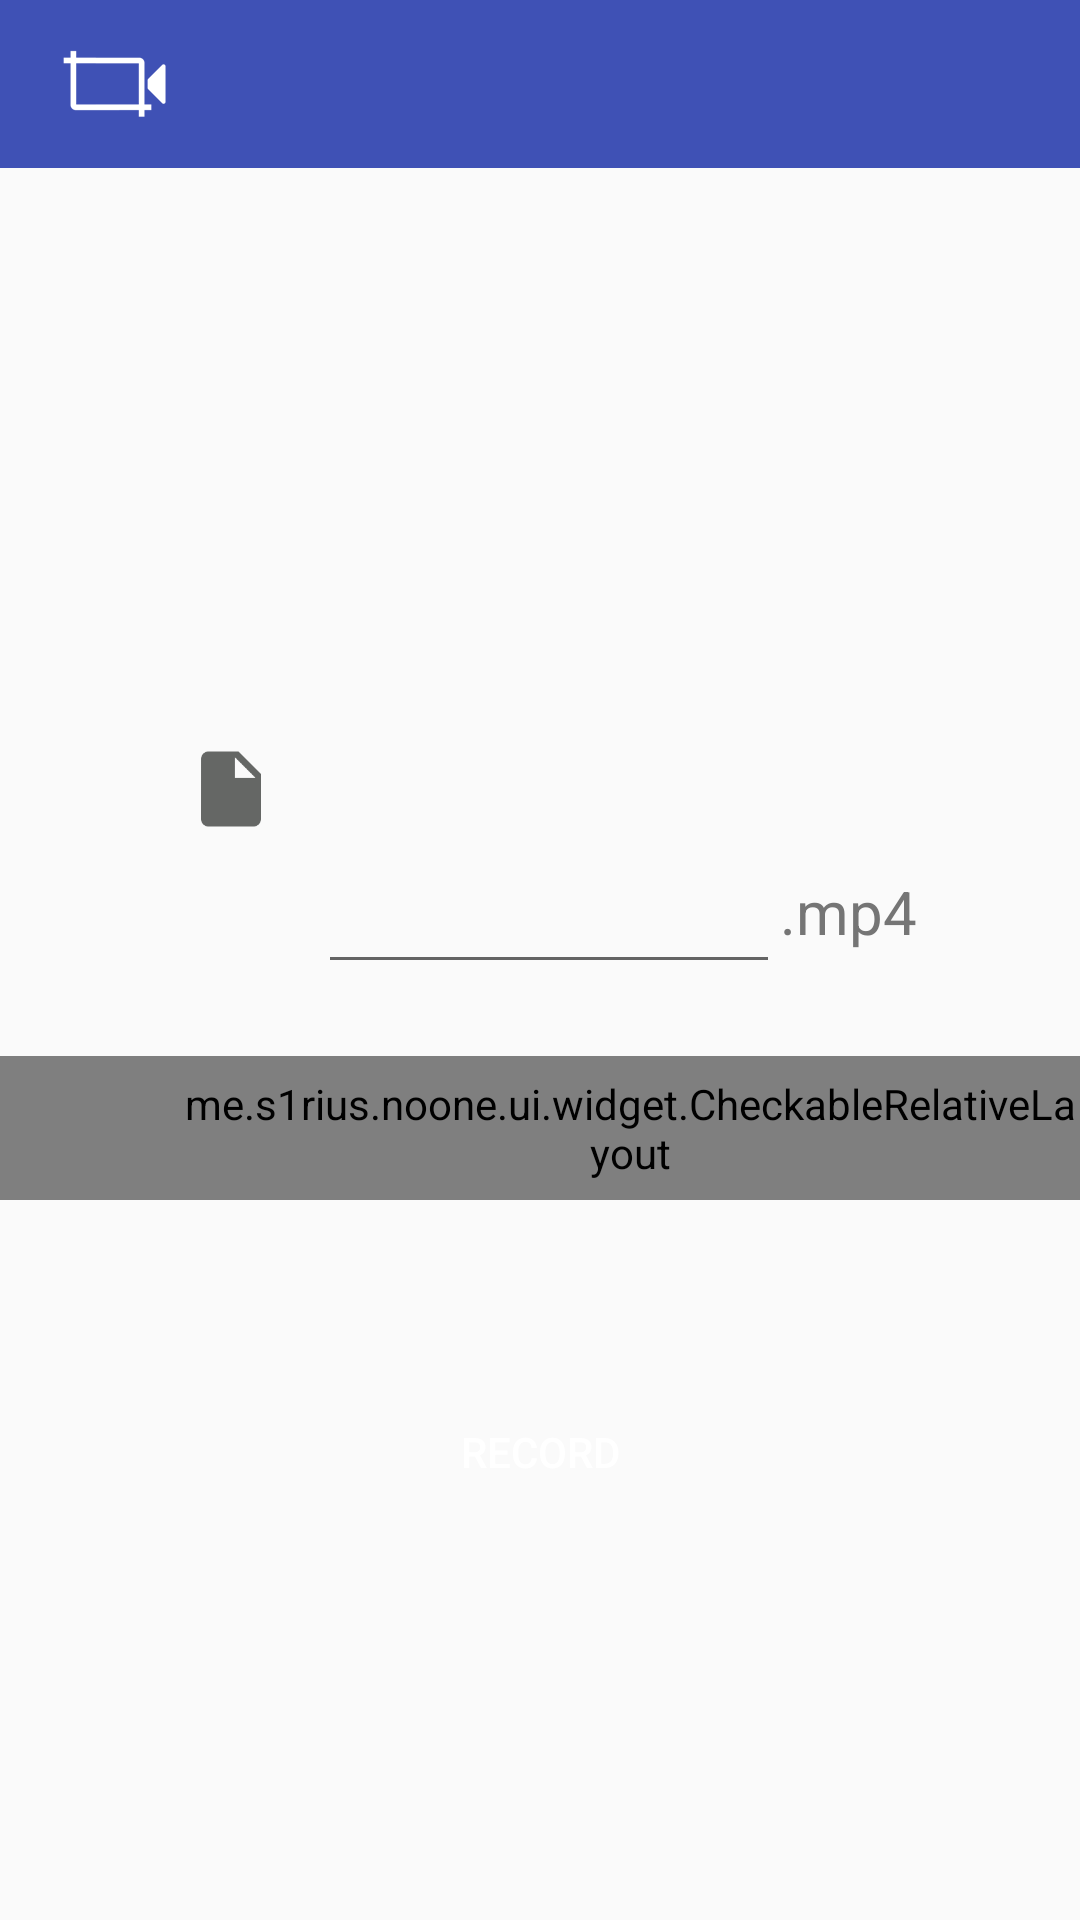

Icons on this 1080x1920 Android screen, each with its box as (x1, y1, x2, y2):
file: (201, 751, 261, 827)
